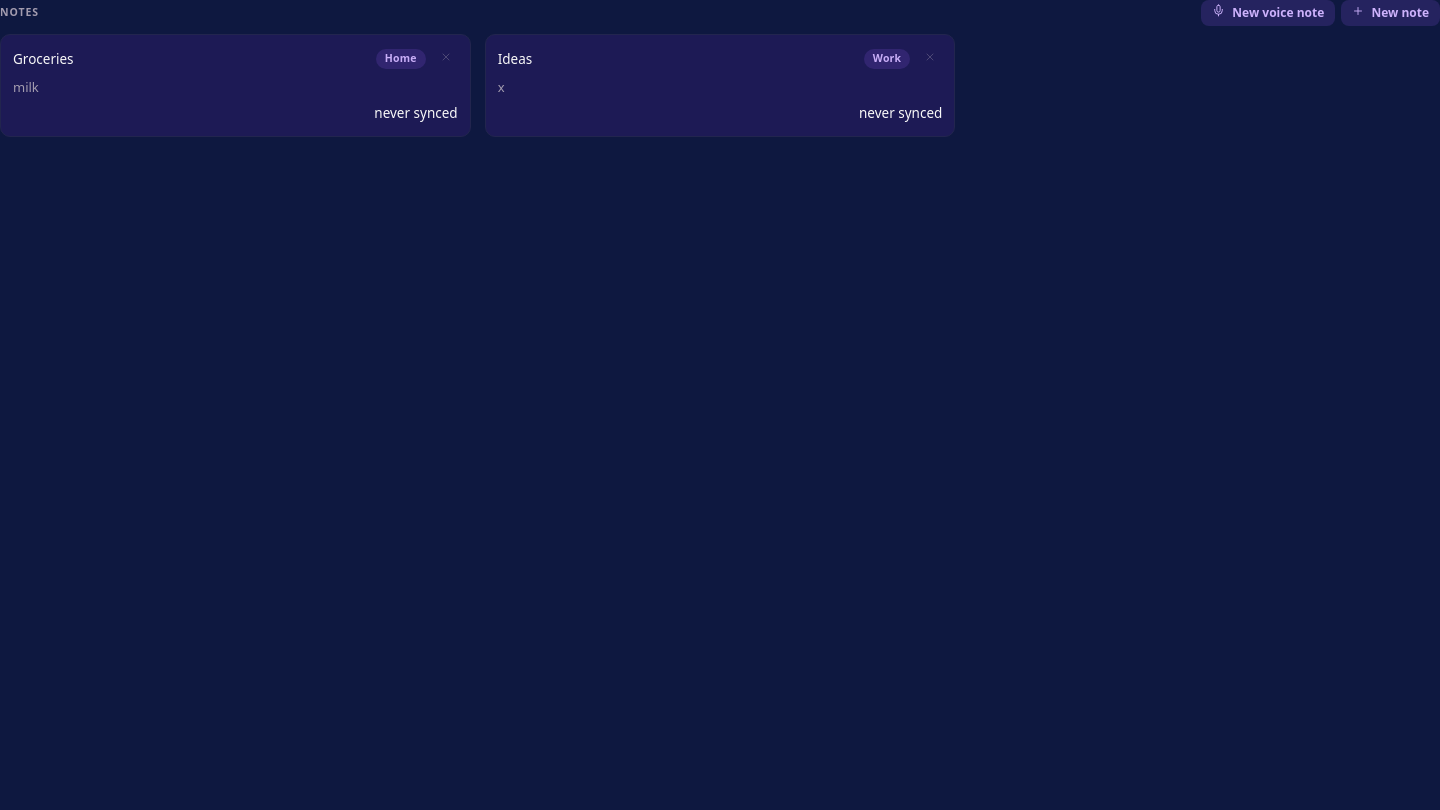
NoteList delete › every row has a delete button; clicking it opens the confirm modal without selecting the row
Check: the button named "Delete Ideas" is shown, box [918,47,942,70]
Click the button named "Delete Groceries" at (446,59), box [434,47,458,70]
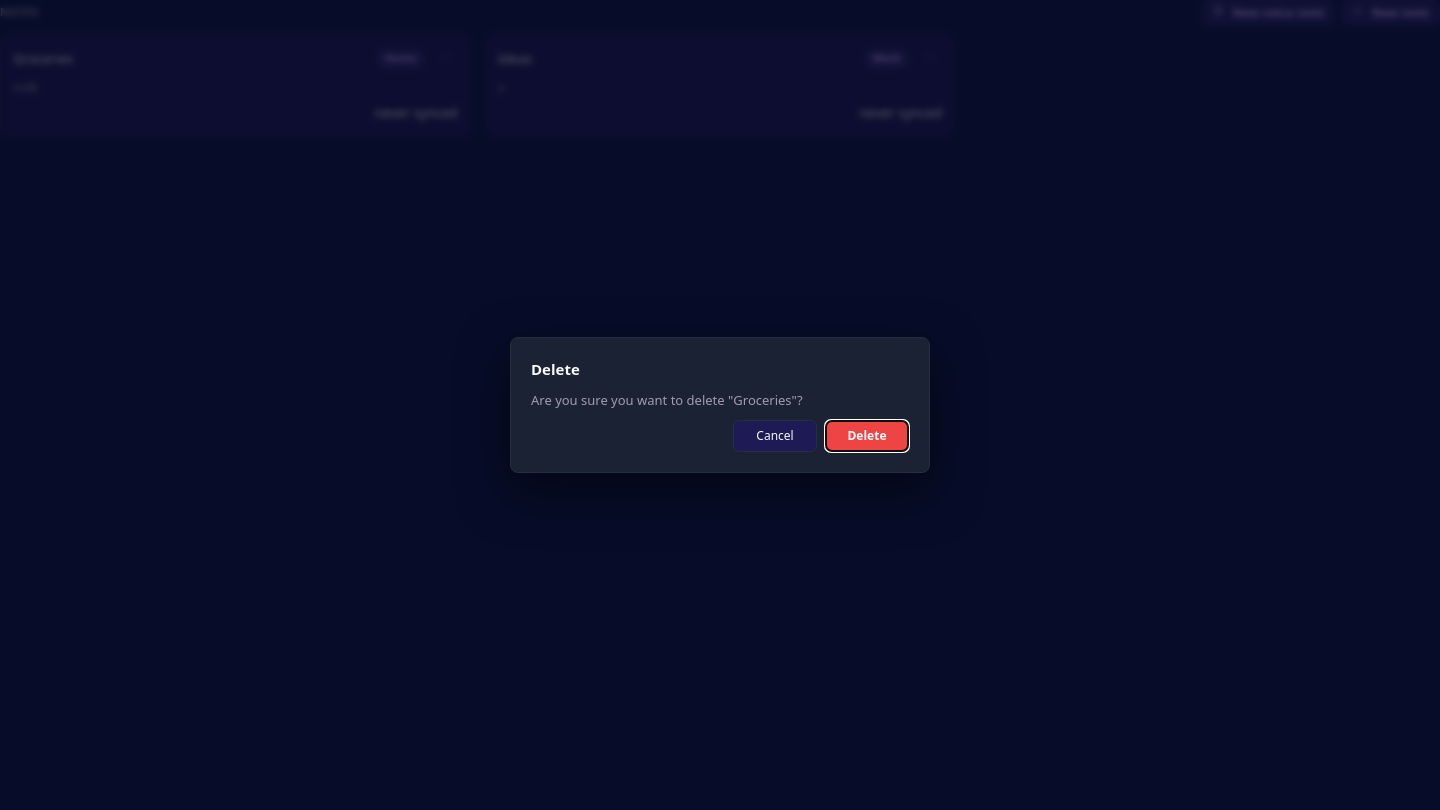
Check: the text "Are you sure you want to delete \"Groceries\"?" is shown, box [531,390,802,408]
